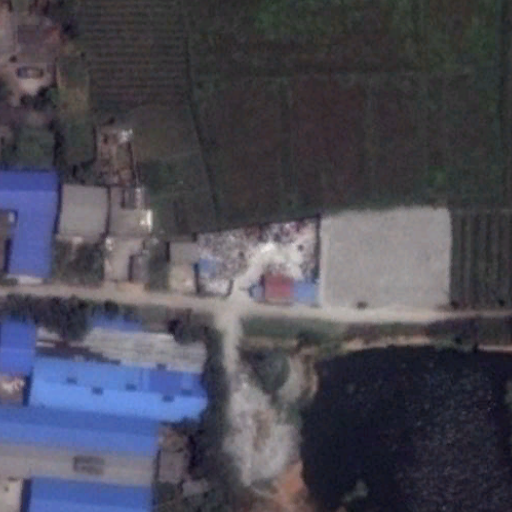msw: (196, 214, 316, 280)
